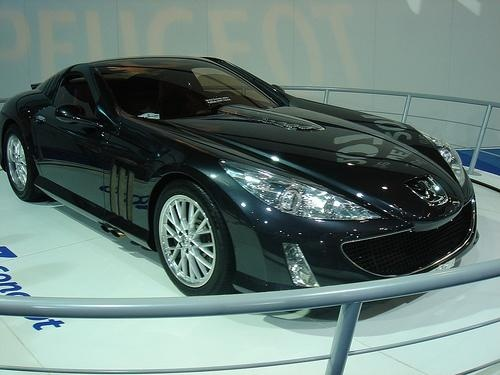car: (1, 57, 479, 298)
